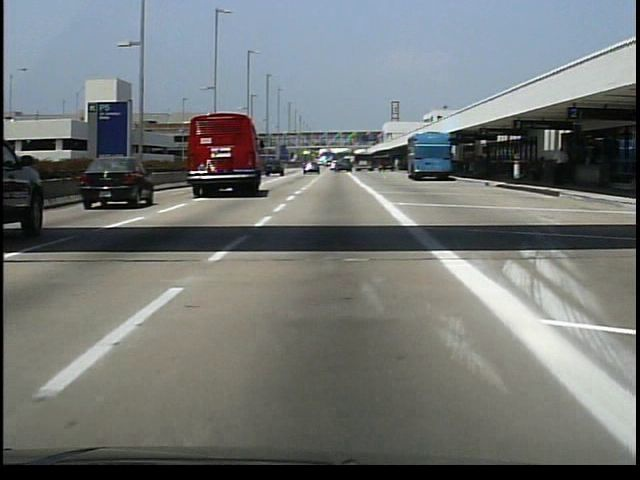person: (554, 146, 570, 187)
